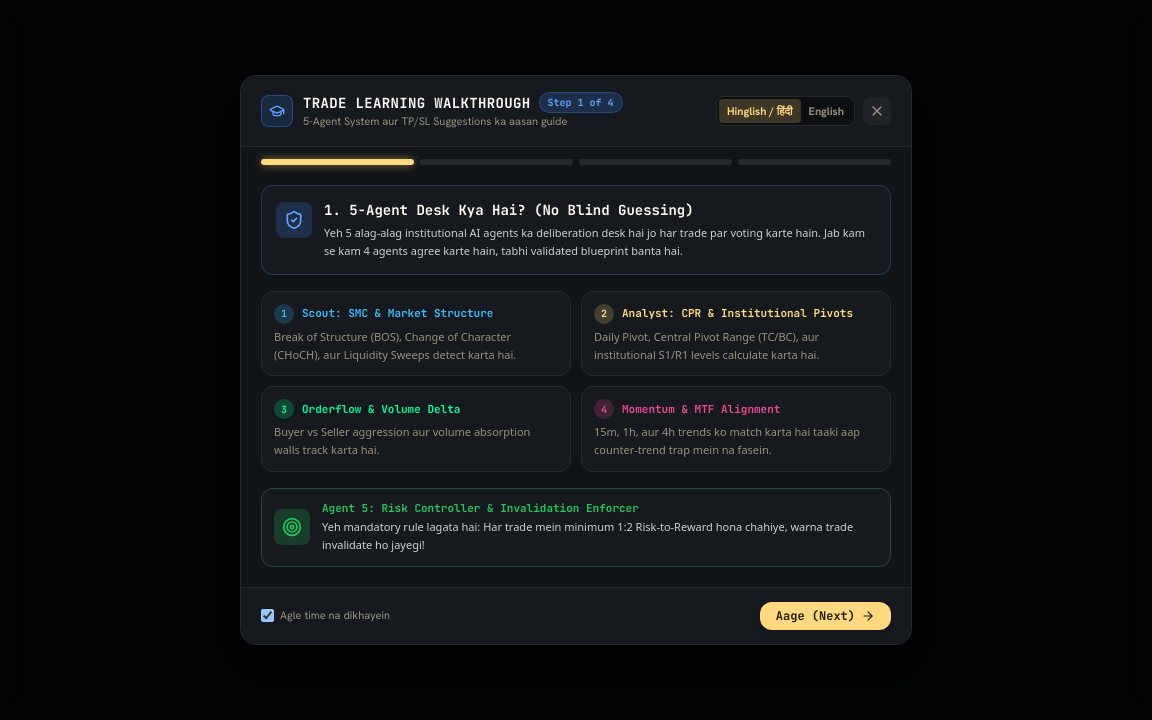
Test: Audit Requirements Verification Test Suite › F. Tutorial: Next ko 20 baar click karne par step 4 se aage na jaye
Expected: the text "Step 1 of 4" is shown, [538, 92, 622, 113]
Step 1. Click the button "Aage (Next)" → (825, 616), box [760, 602, 891, 630]
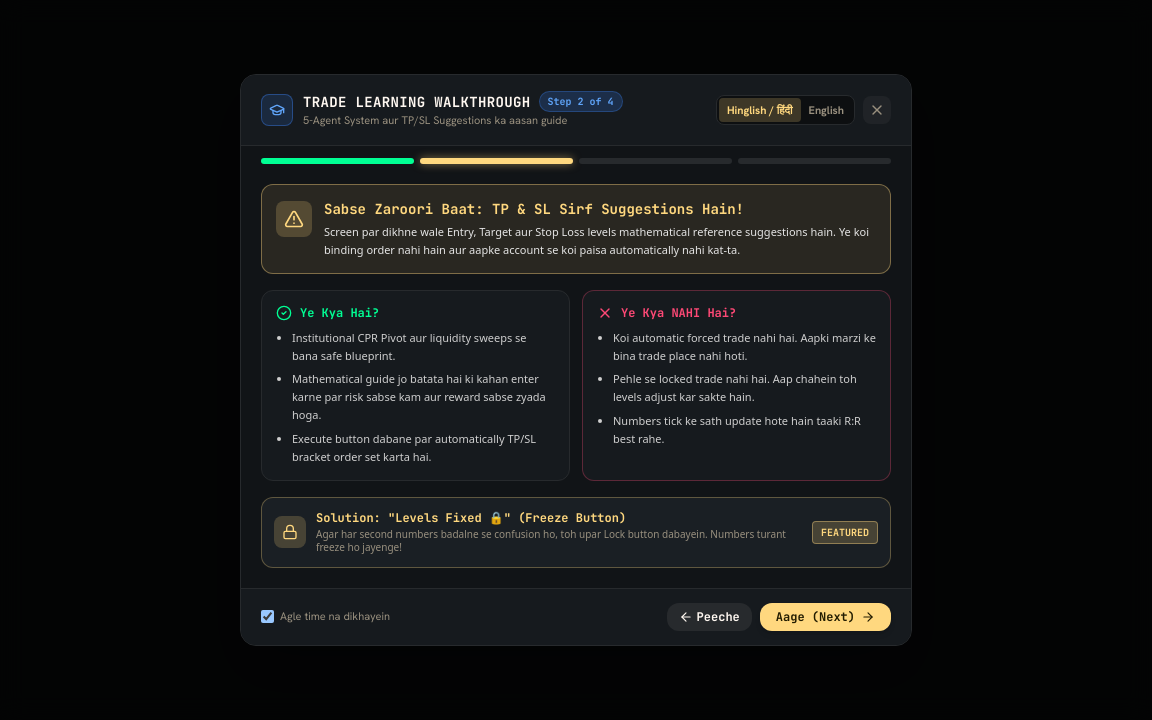
Step 2. Click the button "Aage (Next)" → (825, 616), box [760, 602, 891, 630]
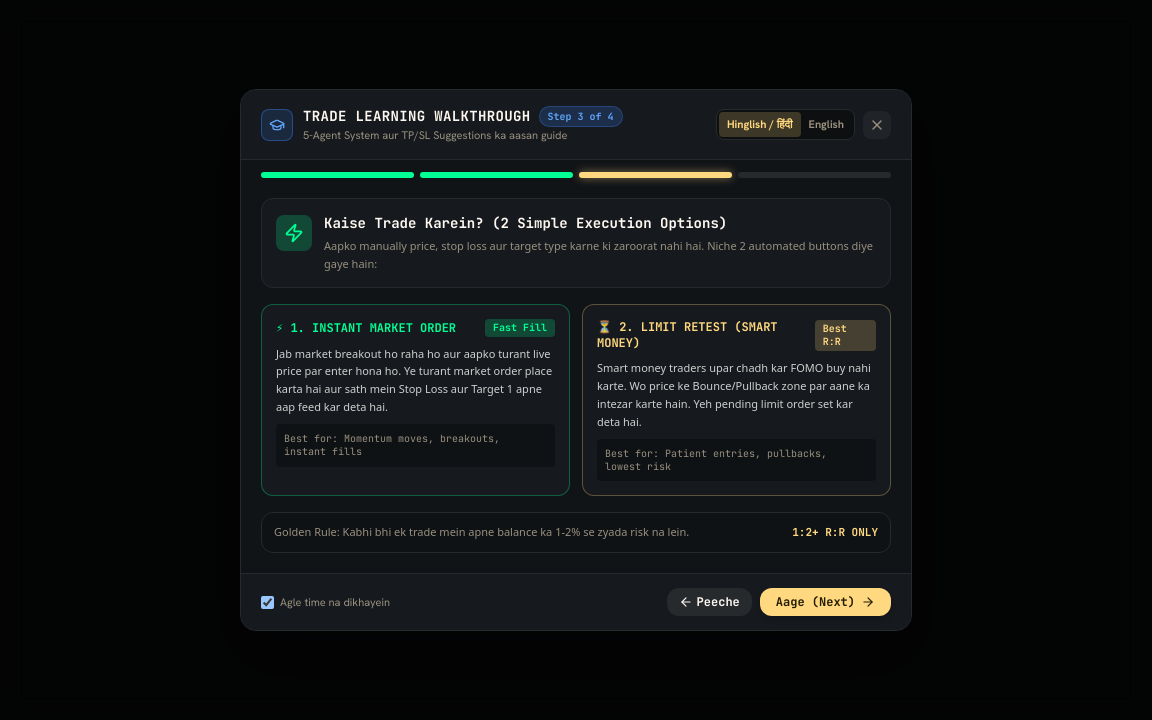
Step 3. Click the button "Aage (Next)" → (825, 602), box [760, 588, 891, 616]
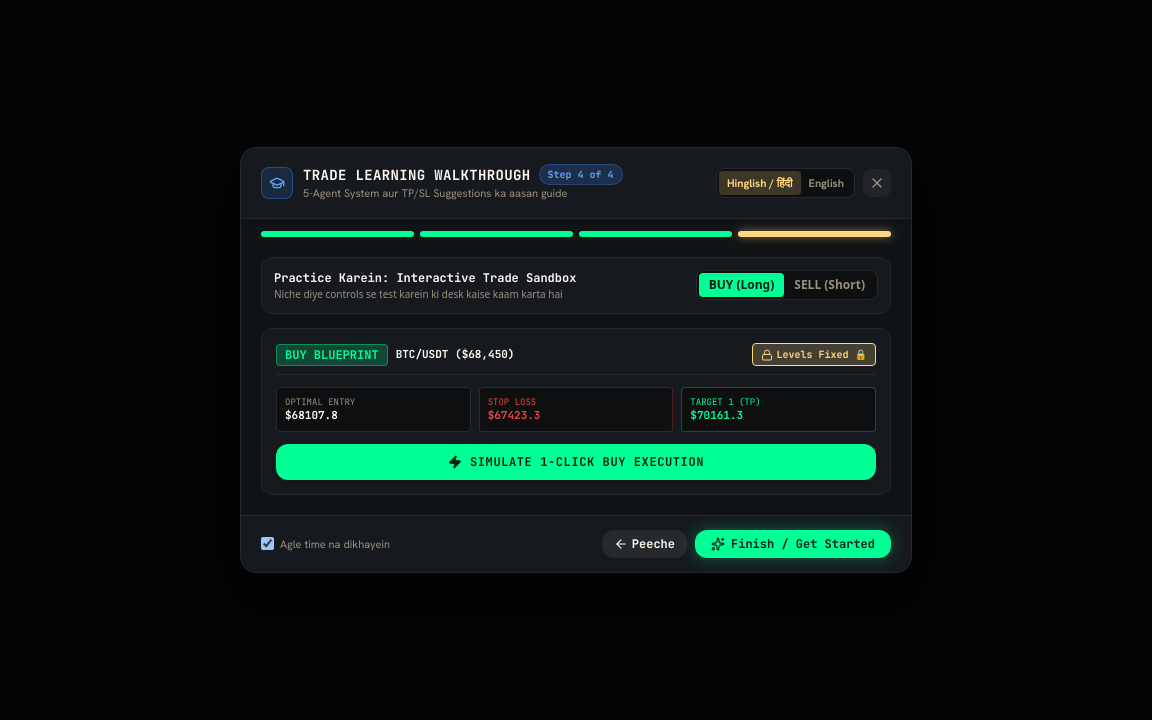
Expected: the text "Finish / Get Started" is shown, [731, 536, 875, 552]
Expected: the text "Step 4 of 4" is shown, [538, 164, 622, 185]
